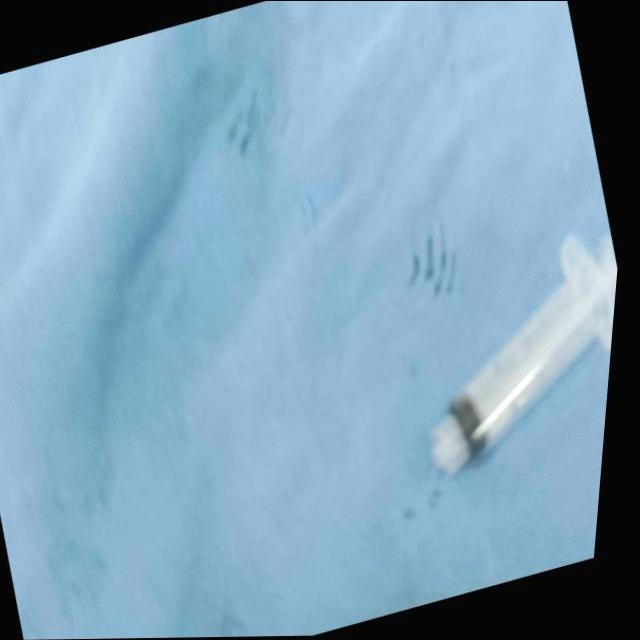Pathological: (1, 1, 621, 636)
Sharps: (427, 232, 616, 474)
